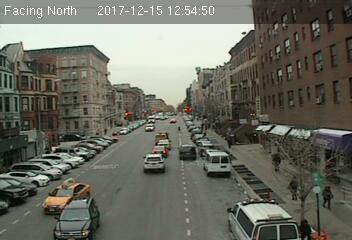car: (53, 197, 101, 240), (43, 178, 92, 215), (202, 150, 233, 177), (143, 153, 166, 173), (178, 144, 197, 161), (152, 145, 168, 156), (156, 139, 172, 150)
pedestrian: (322, 185, 334, 209), (271, 152, 283, 173)
police: (225, 197, 305, 240)
